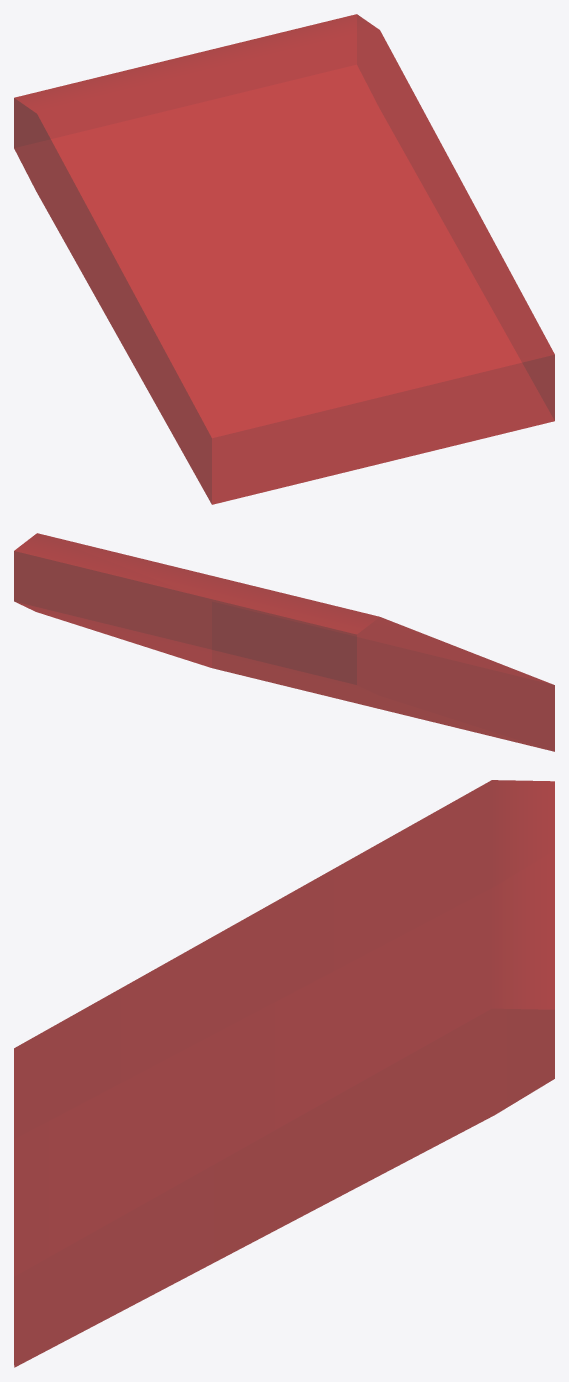
Rendered from SM_Bld_Base_Stairs_01_Collision.fbx.
3 views of the same model, one above another, from view 1: azimuth 30°, elevation 25°; view 2: azimuth 150°, elevation 25°; view 3: azimuth 270°, elevation 25° (orthographic). The views are drawn at different scales.
Parts seen in each view (by area): view 1: SM_Bld_Base_Stairs_01_Collision; view 2: SM_Bld_Base_Stairs_01_Collision; view 3: SM_Bld_Base_Stairs_01_Collision.
Part boxes in pixels (x1,y1,x2,y2): SM_Bld_Base_Stairs_01_Collision: [14, 14, 554, 504]; SM_Bld_Base_Stairs_01_Collision: [14, 533, 554, 751]; SM_Bld_Base_Stairs_01_Collision: [14, 780, 554, 1367].
Size of the model in its own units: 250 by 183 by 250.
